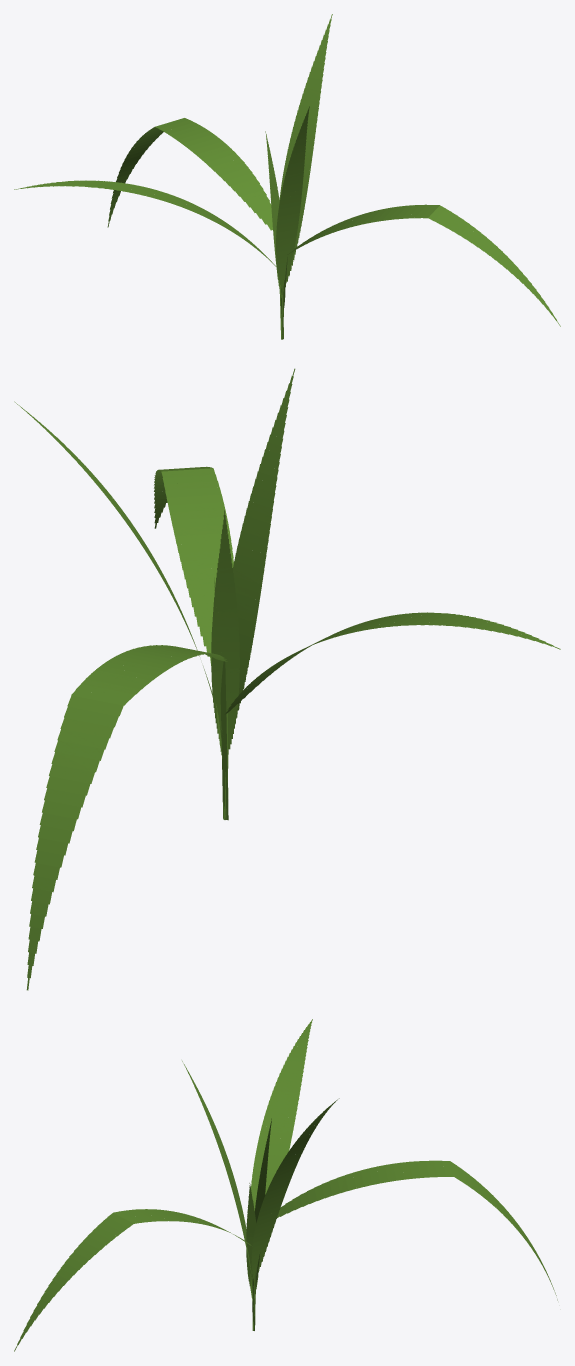
File: maize_004_day_060.dae
The picture shows the model from 3 angles, top to bottom: view 1: azimuth 30°, elevation 25°; view 2: azimuth 150°, elevation 25°; view 3: azimuth 270°, elevation 25°; orthographic projection. The views are drawn at different scales.
Parts seen in each view (by area): view 1: node; view 2: node; view 3: node.
Part boxes in pixels (x1=…): node: x1=14, y1=14, x2=560, y2=339; node: x1=14, y1=368, x2=560, y2=990; node: x1=14, y1=1019, x2=557, y2=1351.
Bounding box in the file's own units: 0.6402 × 0.4147 × 0.7371.
1 material, 1 textured.
